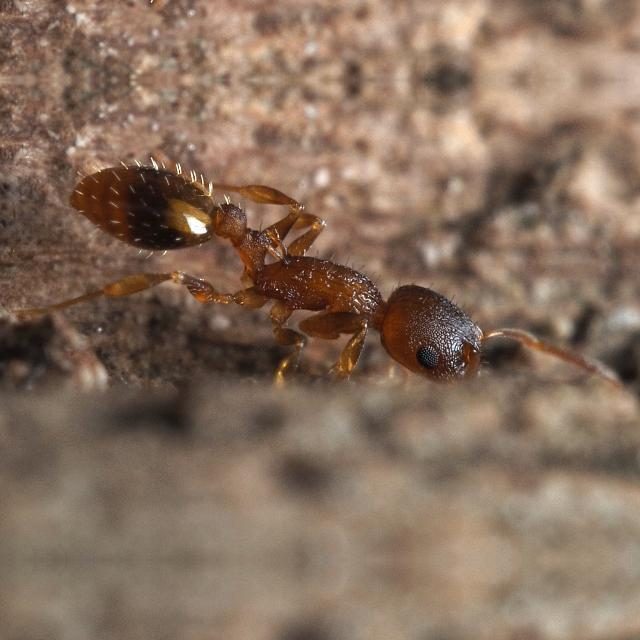Temnothorax: (32, 130, 558, 418)
